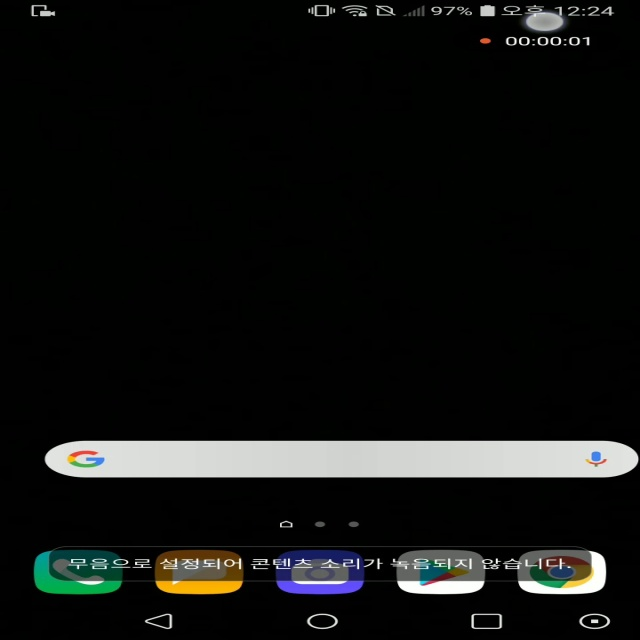Cursor: (521, 10, 566, 33)
